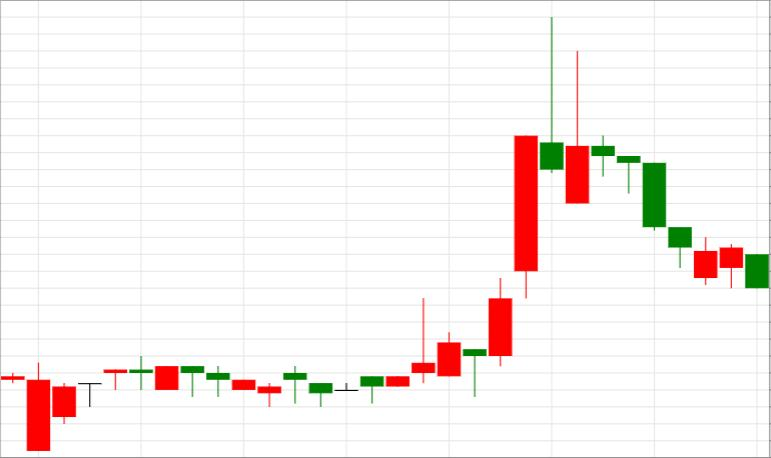shooting_star_fall: (386, 17, 564, 396)
